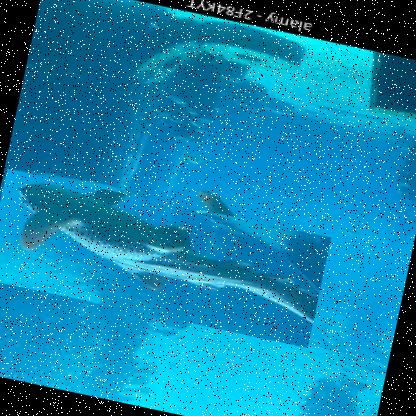zebra_shark: (0, 167, 331, 349)
